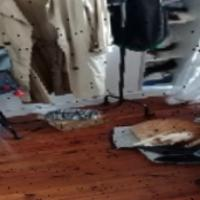asleep: (131, 115, 200, 146)
